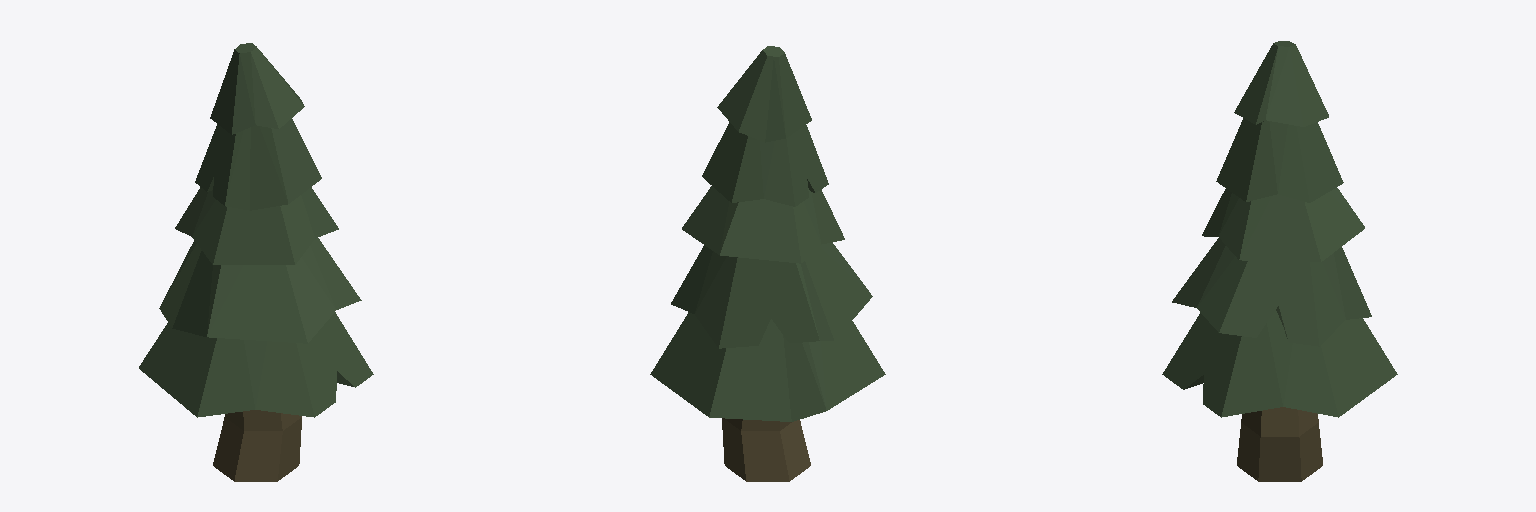
File: spruce_tree1.obj
The picture shows the model from 3 angles: view 1: azimuth 30°, elevation 25°; view 2: azimuth 150°, elevation 25°; view 3: azimuth 270°, elevation 25°; orthographic projection.
Parts seen in each view (by area): view 1: Cylinder.002, Cylinder.003, Cylinder.004, Cylinder.005, Cylinder.001, Cylinder.006; view 2: Cylinder.002, Cylinder.003, Cylinder.004, Cylinder.005, Cylinder.006, Cylinder.001; view 3: Cylinder.002, Cylinder.003, Cylinder.004, Cylinder.005, Cylinder.001, Cylinder.006.
Boxes of the visible parts, x1,y1,x2,y2 form: Cylinder.002: [139, 312, 373, 417]; Cylinder.003: [159, 238, 361, 343]; Cylinder.004: [175, 187, 338, 264]; Cylinder.005: [195, 119, 321, 210]; Cylinder.001: [213, 410, 301, 481]; Cylinder.006: [210, 43, 304, 134]; Cylinder.002: [650, 312, 885, 421]; Cylinder.003: [671, 242, 872, 348]; Cylinder.004: [682, 186, 844, 263]; Cylinder.005: [702, 122, 828, 206]; Cylinder.006: [717, 46, 811, 142]; Cylinder.001: [722, 418, 810, 481]; Cylinder.002: [1162, 310, 1397, 417]; Cylinder.003: [1172, 238, 1371, 346]; Cylinder.004: [1202, 188, 1364, 261]; Cylinder.005: [1216, 118, 1343, 202]; Cylinder.001: [1237, 407, 1322, 481]; Cylinder.006: [1234, 41, 1328, 126].
Bounding box in the file's own units: 3.51 × 7.98 × 4.06.